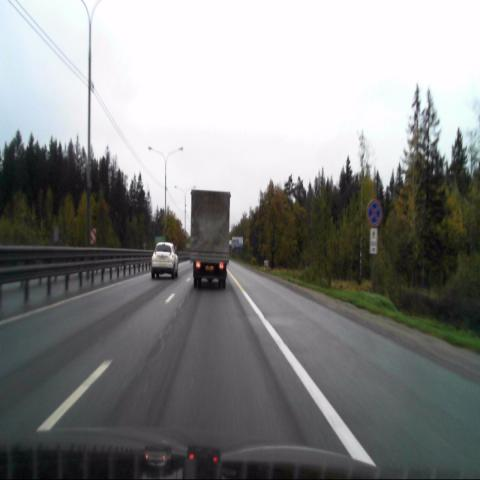3_27: (366, 199, 382, 225)
8_2_2: (369, 228, 378, 253)
